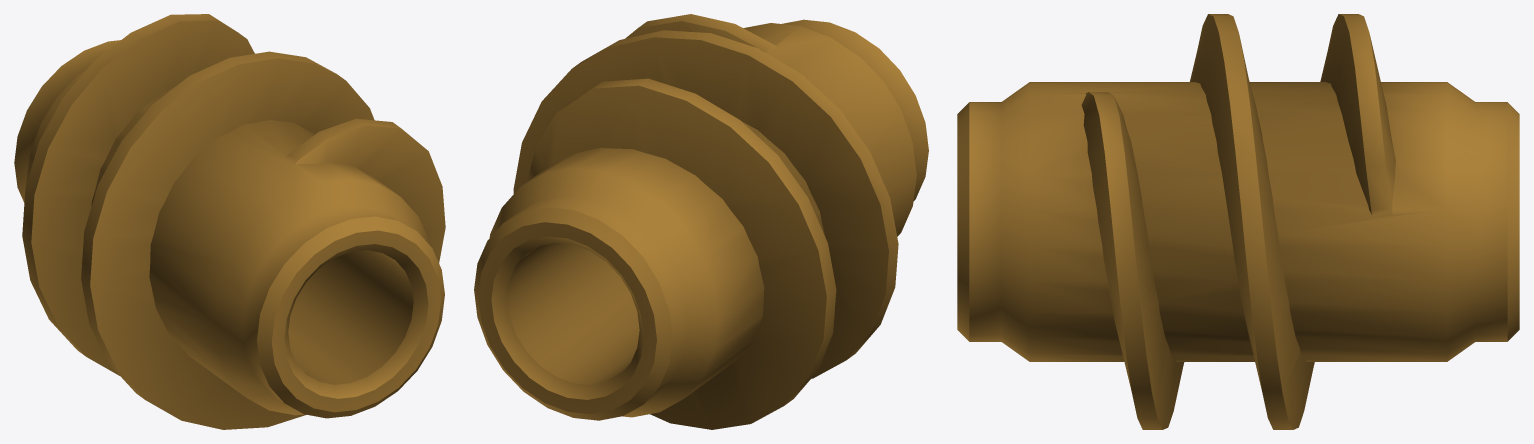
Rendered from worm_gear.glb.
3 views of the same model, side by side, from view 1: azimuth 30°, elevation 25°; view 2: azimuth 150°, elevation 25°; view 3: azimuth 270°, elevation 25° (orthographic). The views are drawn at different scales.
Visible parts, largest first — view 1: Worm_Gear; view 2: Worm_Gear; view 3: Worm_Gear.
Boxes of the visible parts, box(x1,y1,x2,y2) form: Worm_Gear: box(14, 14, 445, 429); Worm_Gear: box(474, 14, 928, 429); Worm_Gear: box(957, 14, 1519, 429).
Size of the model in its own units: 0.0208 by 0.0208 by 0.028.
